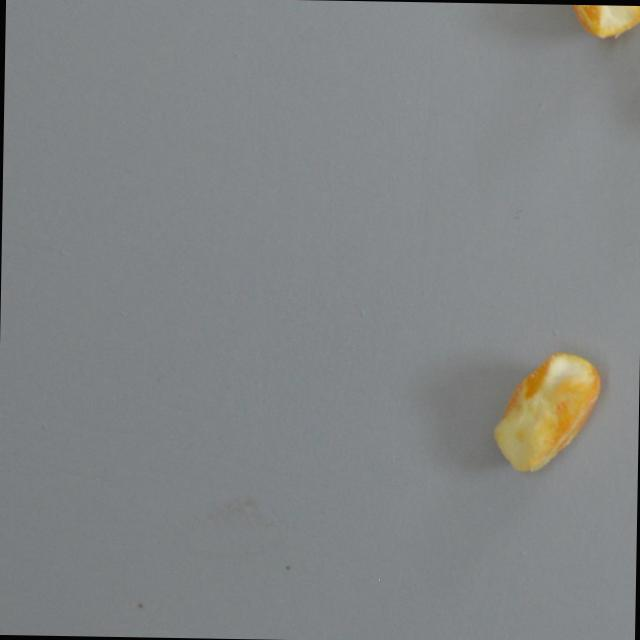pelicula: (487, 346, 603, 475), (546, 4, 640, 42)
